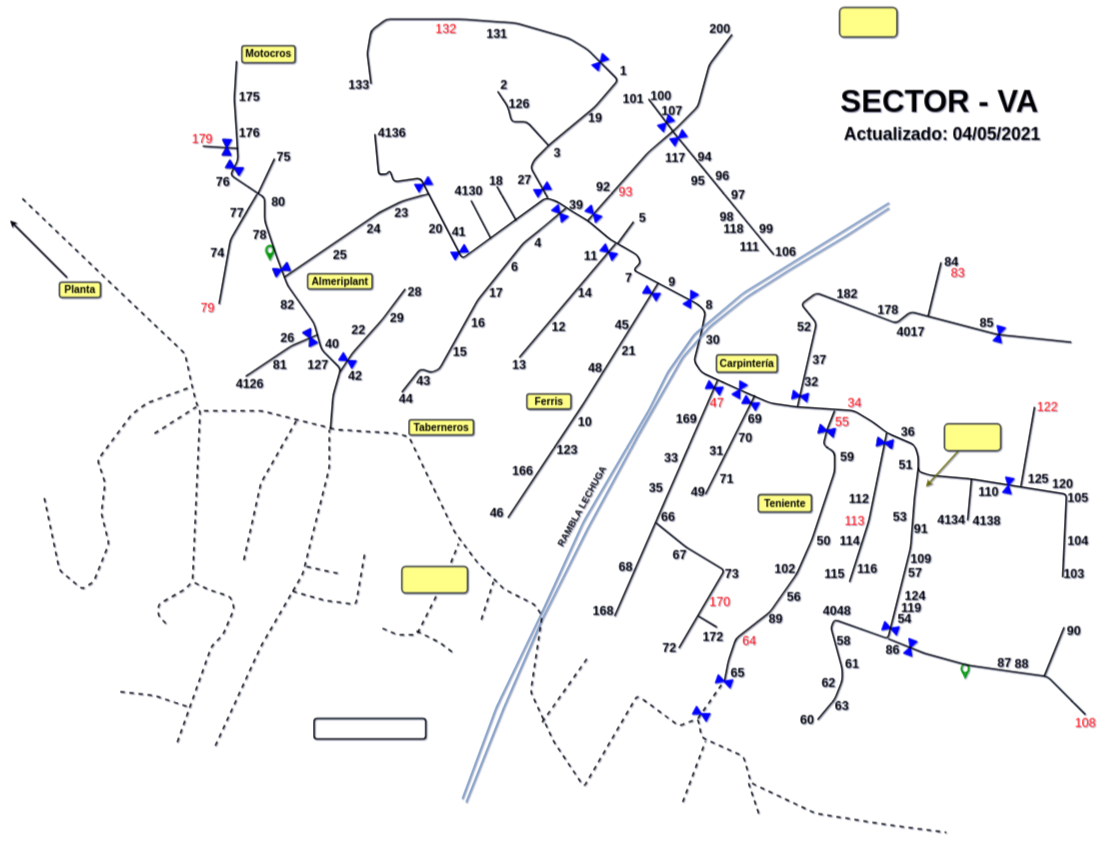
Some shapes in this 1105 by 842 pixel diagram are drawn without their labels. The shapes that lost their labels are listed below. From the top down, each one's centre as x and y in pixels, then its label:
At pixel 868 22: "Balsa las Viudas".
At pixel 972 437: "Aljibe el Salvador".
At pixel 434 579: "Ramal del Médico".
At pixel 369 728: "SECTOR -VB".
